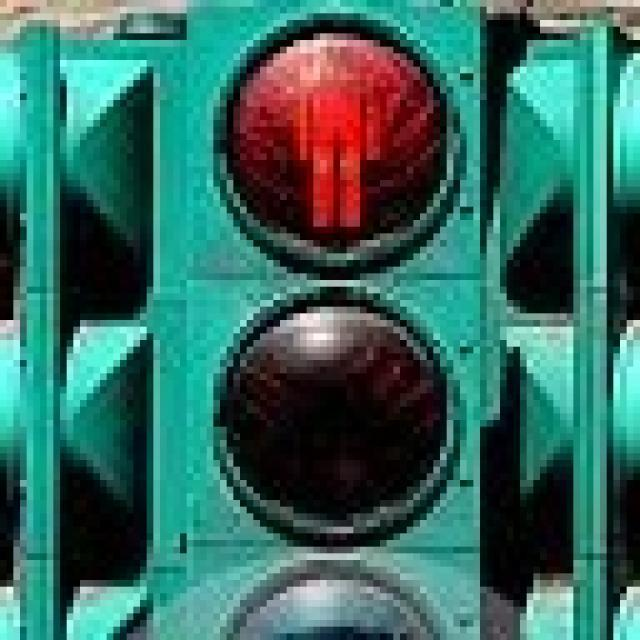red-crossing: (253, 32, 407, 238)
